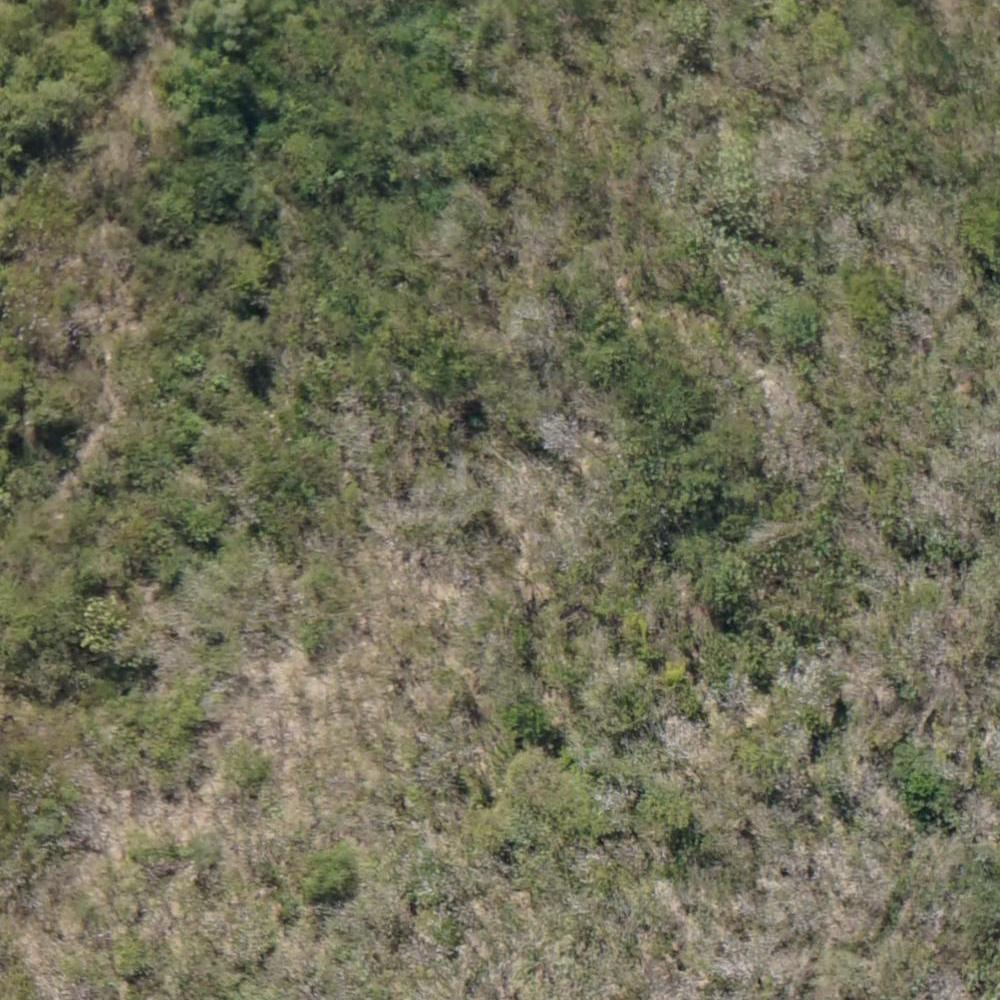tree: (1, 61, 68, 155), (166, 56, 244, 129), (699, 559, 753, 624), (596, 674, 651, 736), (498, 691, 556, 741), (175, 489, 227, 544), (775, 297, 825, 354), (301, 846, 357, 895), (285, 133, 336, 184), (151, 183, 199, 234), (853, 266, 900, 308), (229, 330, 274, 370)
